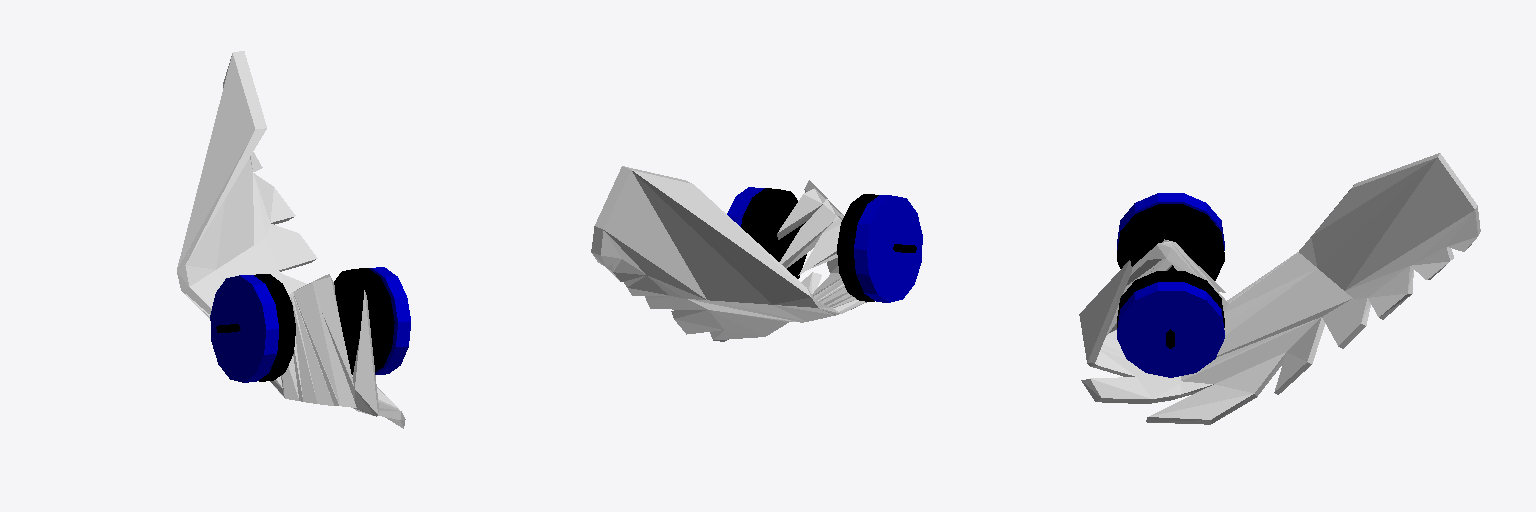
The picture shows the model from 3 angles: view 1: azimuth 30°, elevation 25°; view 2: azimuth 150°, elevation 25°; view 3: azimuth 270°, elevation 25°; orthographic projection.
Visible parts, largest first — view 1: pasted__pasted__pCube4 pasted__group11 group15, group18 group17 pasted__pasted__pCylinder3, group18 group17 pasted__pCylinder3, pasted__pasted__pasted__pCylinder3 group18 group17, group18 group17 pasted__pasted__pCylinder4; view 2: pasted__pasted__pCube4 pasted__group11 group15, group18 group17 pasted__pasted__pCylinder3, group18 group17 pasted__pCylinder3, pasted__pasted__pasted__pCylinder3 group18 group17, group18 group17 pasted__pasted__pCylinder4; view 3: pasted__pasted__pCube4 pasted__group11 group15, group18 group17 pasted__pasted__pCylinder4, pasted__pasted__pasted__pCylinder3 group18 group17, group18 group17 pasted__pasted__pCylinder3, group18 group17 pasted__pCylinder3.
Boxes of the visible parts, <box> form: pasted__pasted__pCube4 pasted__group11 group15: <box>177,51,405,428</box>; group18 group17 pasted__pasted__pCylinder3: <box>210,275,278,382</box>; group18 group17 pasted__pCylinder3: <box>334,268,394,374</box>; pasted__pasted__pasted__pCylinder3 group18 group17: <box>254,274,295,381</box>; group18 group17 pasted__pasted__pCylinder4: <box>369,267,410,374</box>; pasted__pasted__pCube4 pasted__group11 group15: <box>591,166,866,341</box>; group18 group17 pasted__pasted__pCylinder3: <box>854,195,922,302</box>; group18 group17 pasted__pCylinder3: <box>741,188,806,278</box>; pasted__pasted__pasted__pCylinder3 group18 group17: <box>837,194,878,301</box>; group18 group17 pasted__pasted__pCylinder4: <box>727,187,764,226</box>; pasted__pasted__pCube4 pasted__group11 group15: <box>1079,153,1480,424</box>; group18 group17 pasted__pasted__pCylinder4: <box>1117,282,1224,377</box>; pasted__pasted__pasted__pCylinder3 group18 group17: <box>1117,204,1224,280</box>; group18 group17 pasted__pasted__pCylinder3: <box>1117,193,1224,250</box>; group18 group17 pasted__pCylinder3: <box>1117,271,1224,327</box>.
Bounding box in the file's own units: 1.63 × 2.2 × 3.05.
4 materials, 1 textured.